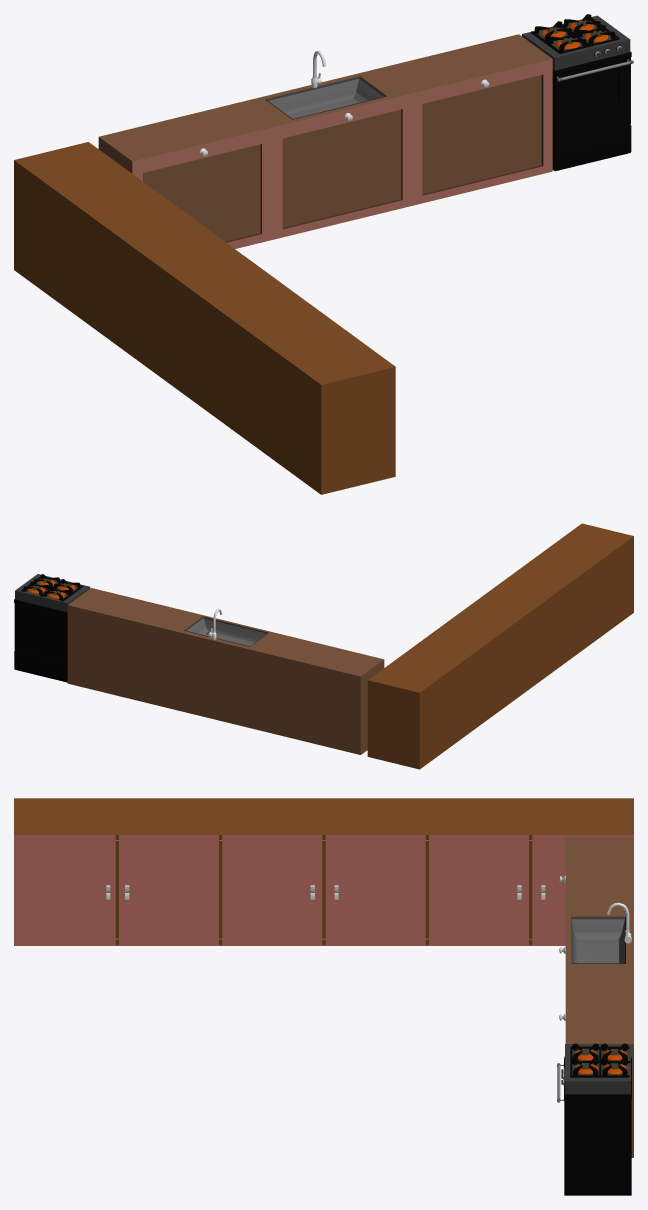
File: kitchen.glb
3 views of the same model, one above another, from view 1: azimuth 30°, elevation 25°; view 2: azimuth 150°, elevation 25°; view 3: azimuth 270°, elevation 25° (orthographic). The views are drawn at different scales.
Parts seen in each view (by area): view 1: tap.007, upHandel6.001; view 2: tap.007, upHandel6.001; view 3: upHandel6.001, tap.007.
Boxes of the visible parts, x1,y1,x2,y2 form: tap.007: [98, 14, 633, 248]; upHandel6.001: [14, 142, 395, 494]; tap.007: [14, 574, 384, 754]; upHandel6.001: [367, 523, 633, 769]; upHandel6.001: [14, 798, 633, 945]; tap.007: [557, 837, 633, 1195].
Bounding box in the file's own units: 4.67 × 1.16 × 4.26.
